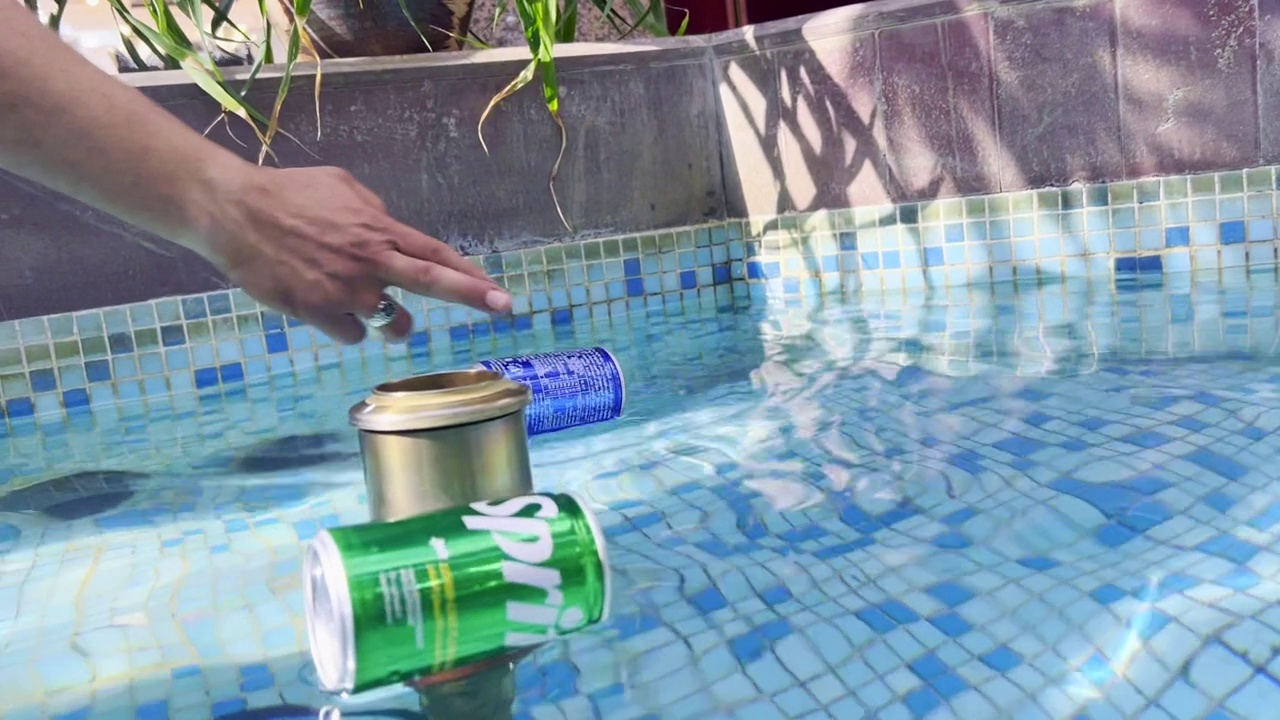debris: (288, 485, 615, 697), (447, 332, 635, 448)
